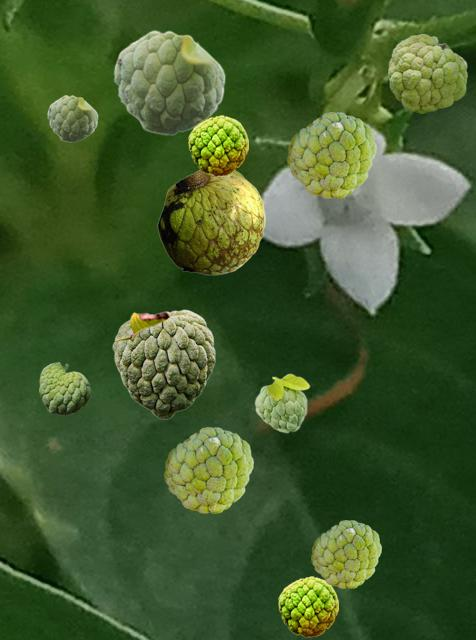atis: (113, 30, 225, 134), (157, 170, 264, 274), (112, 309, 214, 418), (287, 112, 375, 197), (164, 427, 252, 512), (388, 34, 466, 112), (311, 520, 380, 587), (188, 115, 247, 175), (278, 576, 337, 636), (254, 373, 309, 432), (39, 362, 89, 414), (47, 95, 97, 141)
